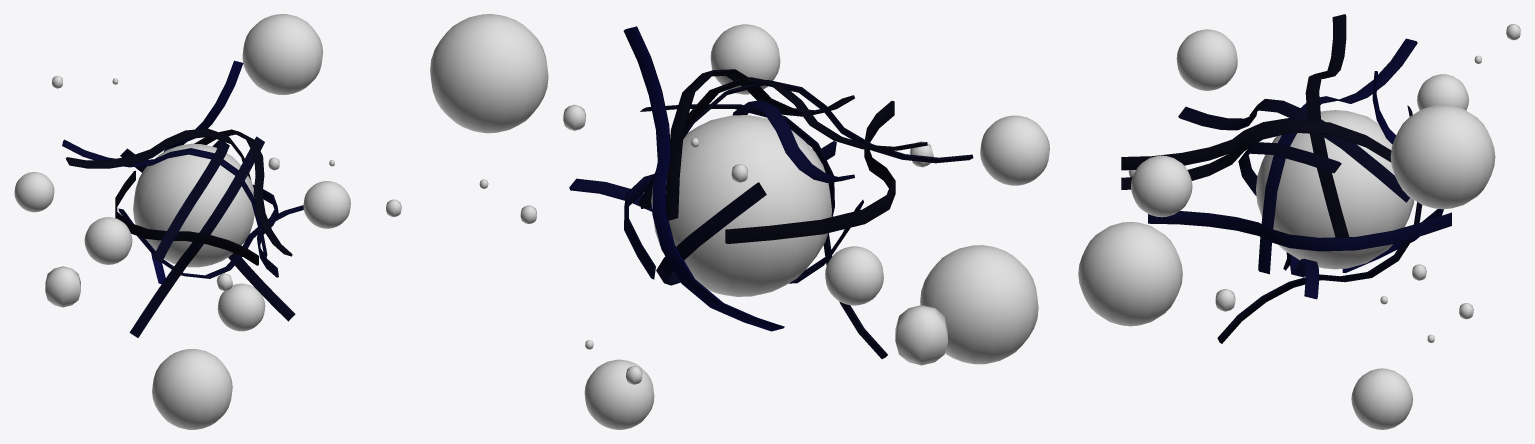
The model's file is Black_Hole_Middle_Sorted.fbx.
3 views of the same model, side by side, from view 1: azimuth 30°, elevation 25°; view 2: azimuth 150°, elevation 25°; view 3: azimuth 270°, elevation 25° (orthographic). The views are drawn at different scales.
Parts seen in each view (by area): view 1: polySurface30, polySurface40; view 2: polySurface30, polySurface40; view 3: polySurface30, polySurface40.
Part boxes in pixels (left/top/right/bottom): polySurface30: left=14, top=14, right=401, bottom=429; polySurface40: left=133, top=143, right=254, bottom=267; polySurface30: left=430, top=14, right=1049, bottom=429; polySurface40: left=651, top=115, right=831, bottom=296; polySurface30: left=1078, top=14, right=1520, bottom=429; polySurface40: left=1256, top=110, right=1414, bottom=269.
Size of the model in its own units: 38.6 by 31.92 by 35.73.
